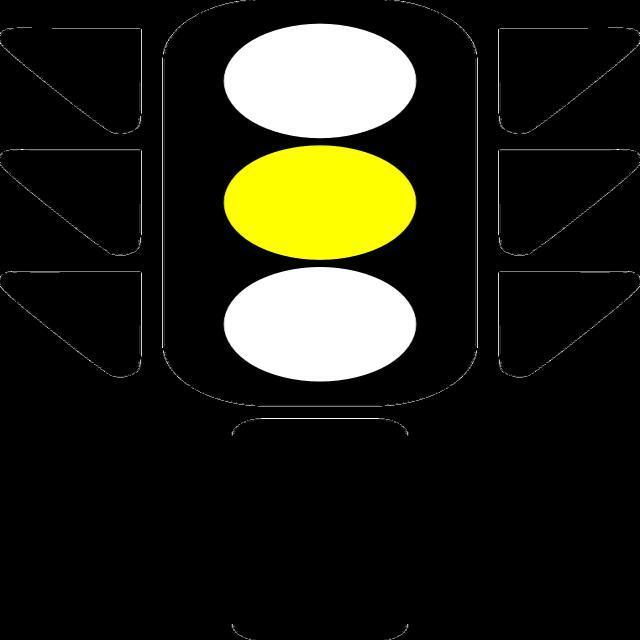yellow_light: (162, 0, 475, 404)
